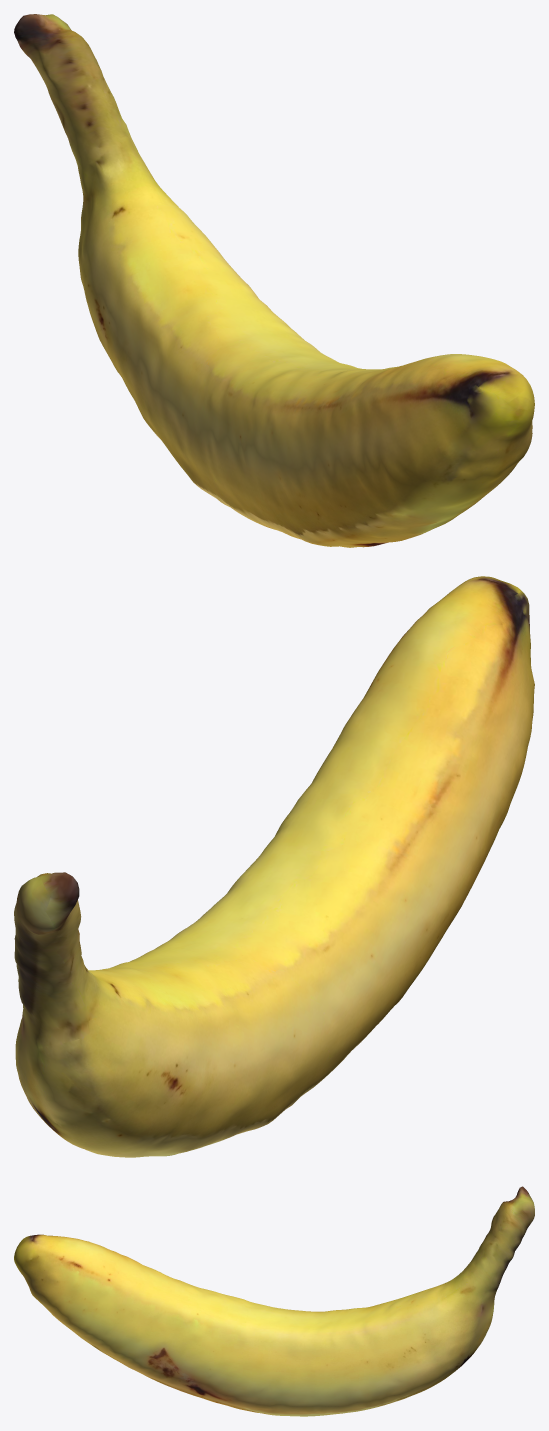
File: banana2_centered.obj
3 renders of one model, top to bottom at view 1: azimuth 30°, elevation 25°; view 2: azimuth 150°, elevation 25°; view 3: azimuth 270°, elevation 25°, orthographic. The views are drawn at different scales.
Size of the model in its own units: 3.94 by 9.16 by 20.31.
Materials: 1 (1 with a texture image).
